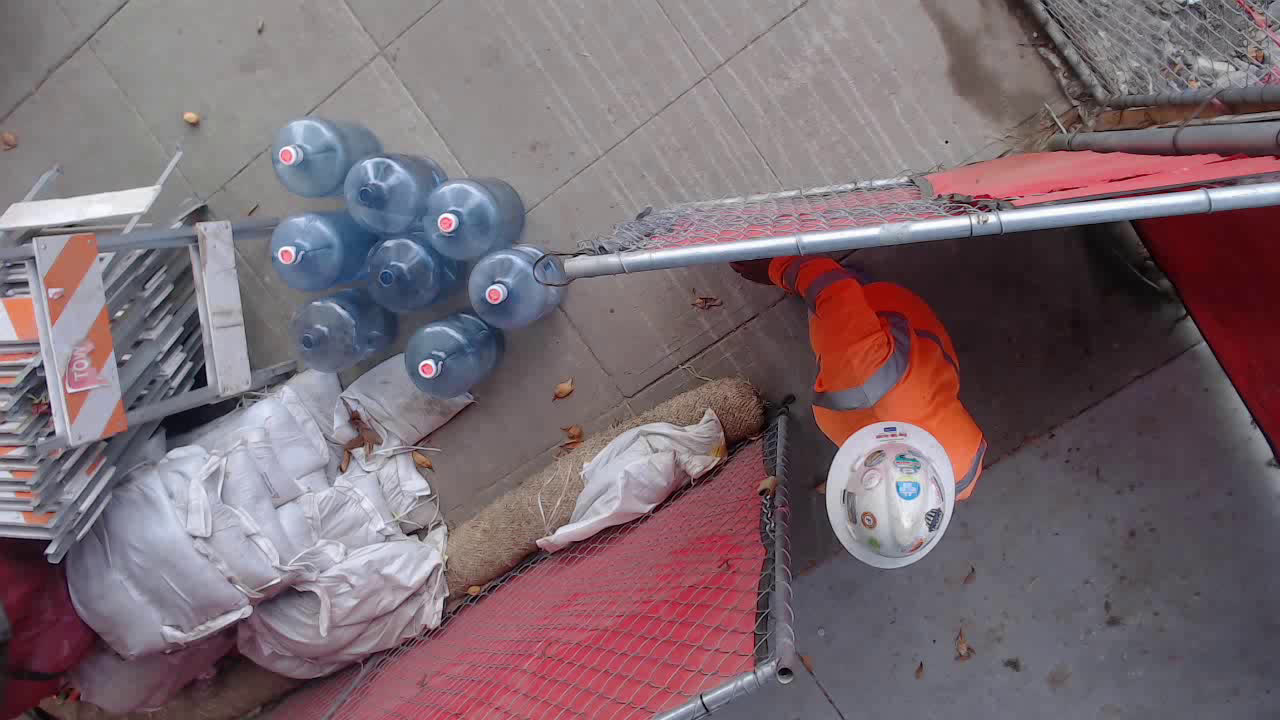hardhat: (824, 420, 954, 570)
safetyvest: (726, 244, 988, 505)
